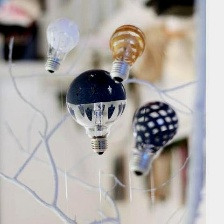light_bulb: (63, 66, 131, 157), (126, 97, 181, 179), (105, 20, 148, 86), (40, 13, 82, 76)
